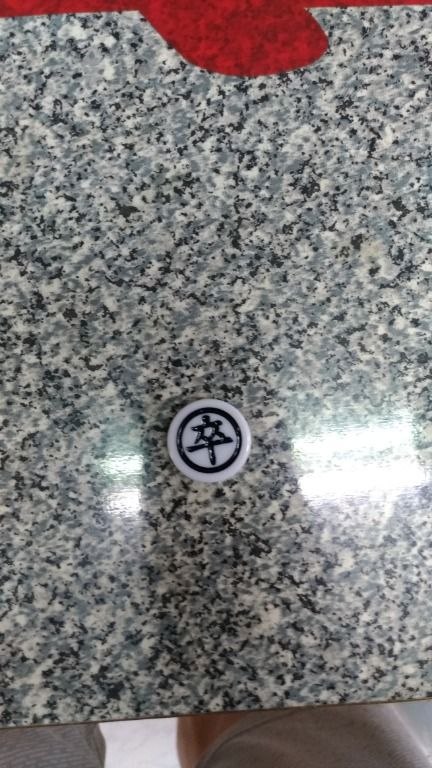b-pawn: (148, 398, 273, 486)
